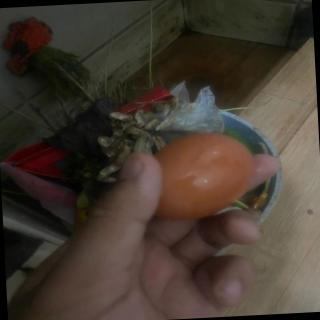Telur: (145, 129, 261, 223)
